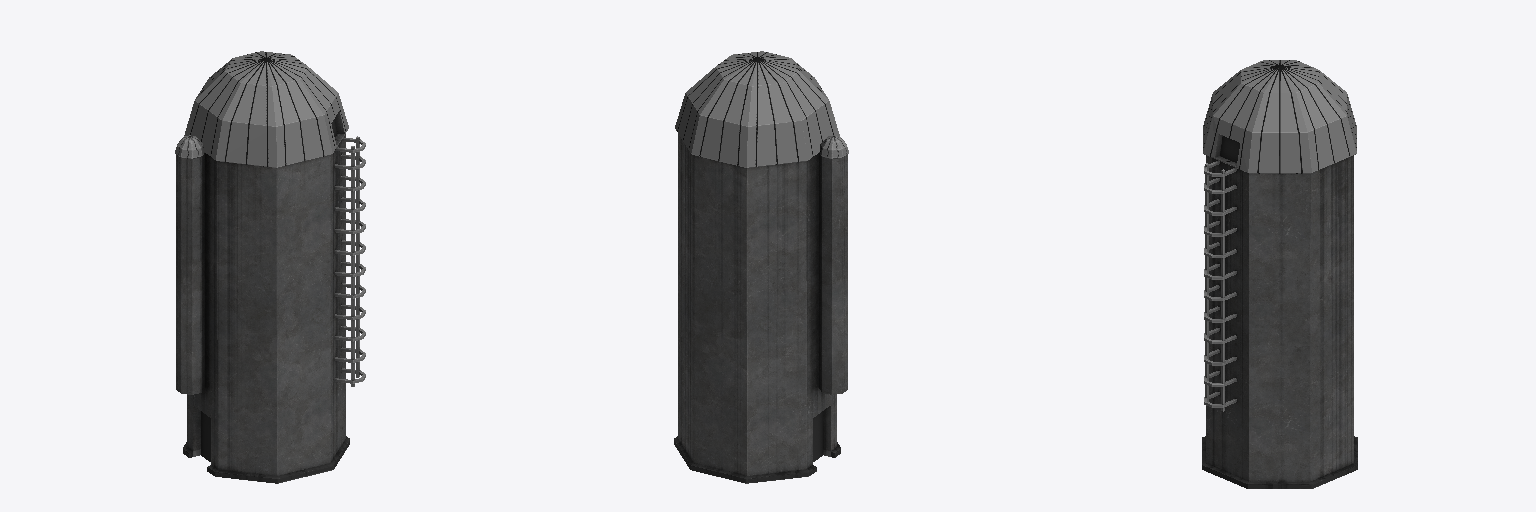
3 renders of one model, left to right at view 1: azimuth 30°, elevation 25°; view 2: azimuth 150°, elevation 25°; view 3: azimuth 270°, elevation 25°, orthographic.
Visible parts, largest first — view 1: Silo_mesh; view 2: Silo_mesh; view 3: Silo_mesh.
Part boxes in pixels (x1,y1,x2,y2): Silo_mesh: (175, 51, 365, 483); Silo_mesh: (674, 51, 848, 483); Silo_mesh: (1202, 60, 1357, 488).
Size of the model in its own units: 6.58 by 15.67 by 5.69.
Materials: 1 (1 with a texture image).